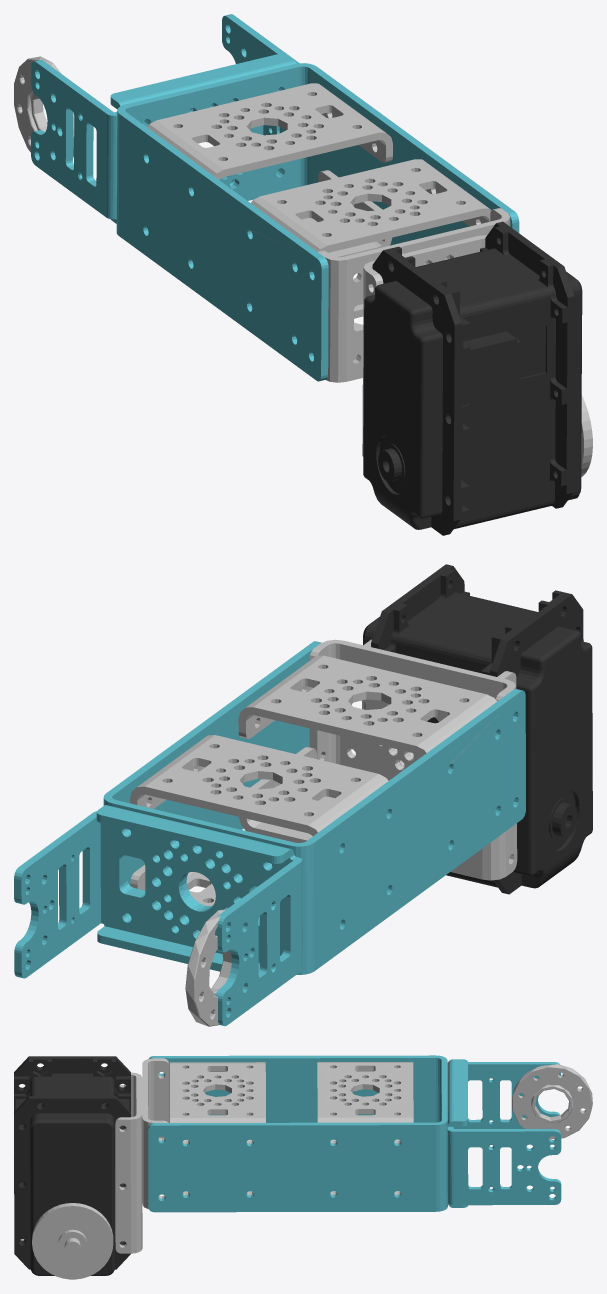
File: right_upper_arm.dae
3 views of the same model, one above another, from view 1: azimuth 30°, elevation 25°; view 2: azimuth 150°, elevation 25°; view 3: azimuth 270°, elevation 25° (orthographic). The views are drawn at different scales.
Visible parts, largest first — view 1: left_upper_arm; view 2: left_upper_arm; view 3: left_upper_arm.
Boxes of the visible parts, x1=… form: left_upper_arm: x1=14, y1=14, x2=592, y2=535; left_upper_arm: x1=14, y1=564, x2=592, y2=1026; left_upper_arm: x1=14, y1=1055, x2=592, y2=1279.
Size of the model in its own units: 0.059 by 0.1991 by 0.0653.
